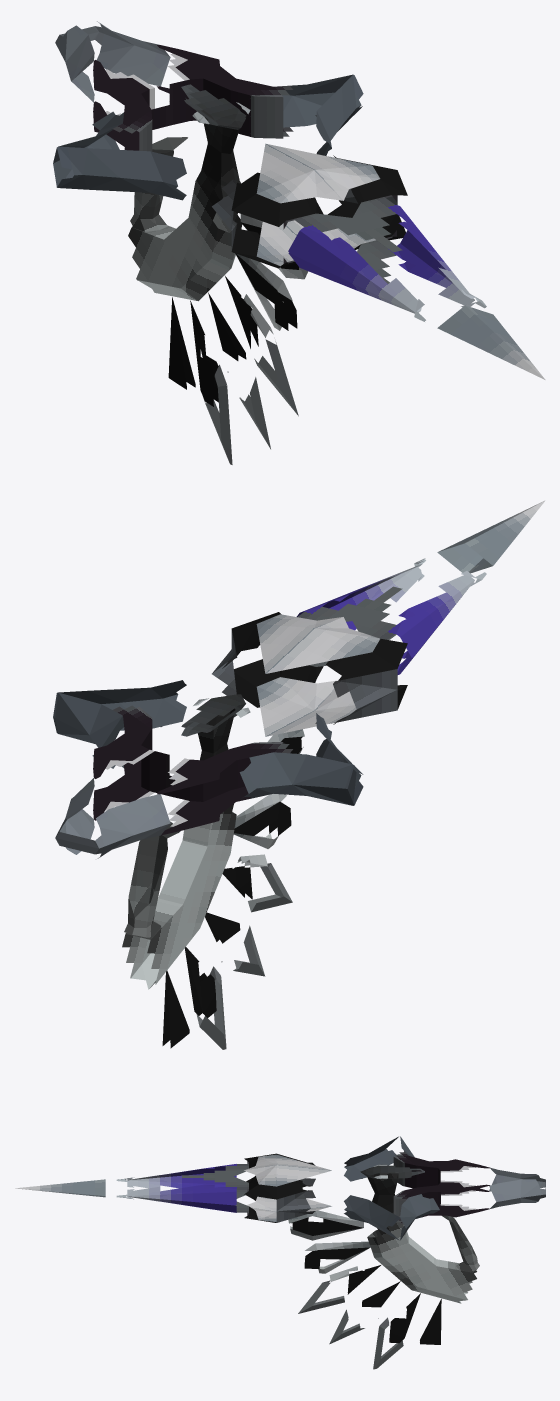
File: precision.obj
3 renders of one model, top to bottom at view 1: azimuth 30°, elevation 25°; view 2: azimuth 150°, elevation 25°; view 3: azimuth 270°, elevation 25°, orthographic. The views are drawn at different scales.
Size of the model in its own units: 67.51 by 65.62 by 143.
